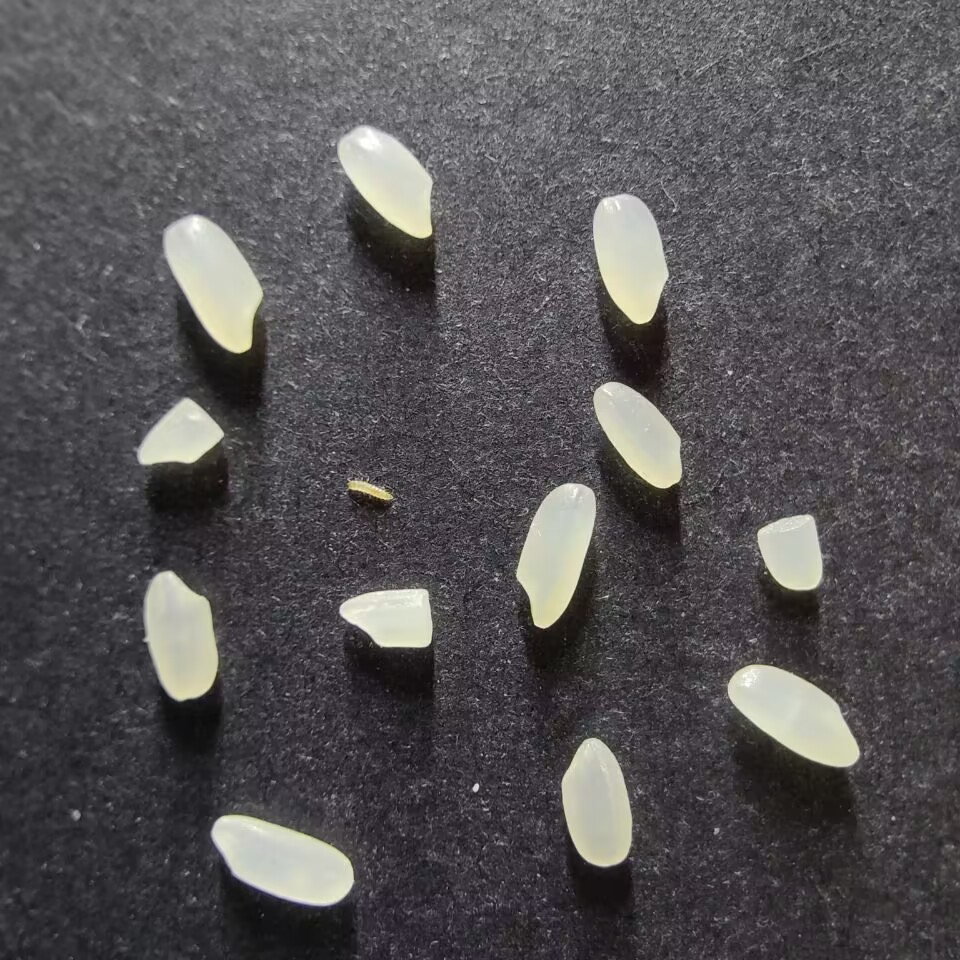broken: (136, 396, 225, 466), (338, 587, 434, 648), (756, 514, 823, 591)
others: (343, 475, 395, 502)
rice: (162, 214, 263, 354), (726, 664, 861, 768), (209, 814, 353, 906), (514, 482, 596, 629), (337, 125, 435, 239), (591, 193, 669, 324), (144, 570, 218, 702), (592, 381, 683, 488), (560, 737, 633, 867)
